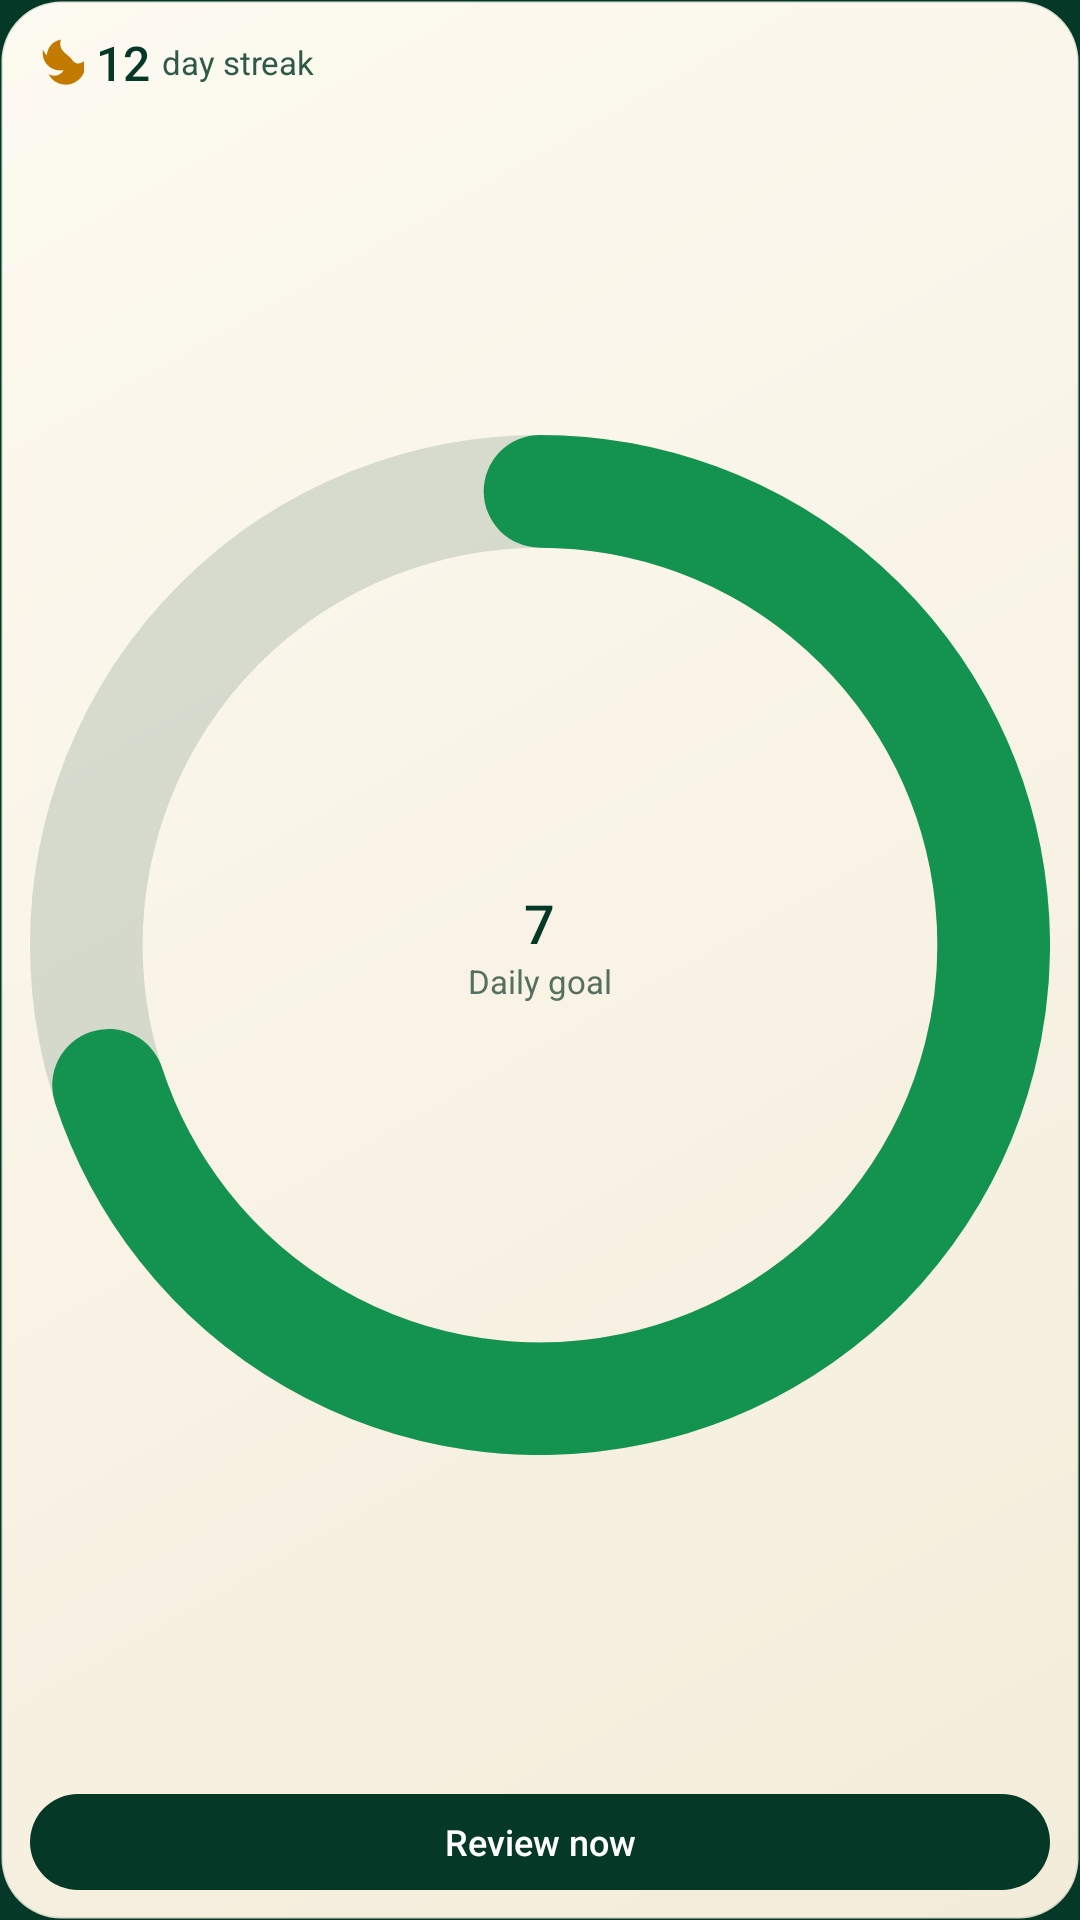

Named icons in this screenshot (1080 × 1920) and their centers, point (x, y):
widget flame: point (63, 62)
